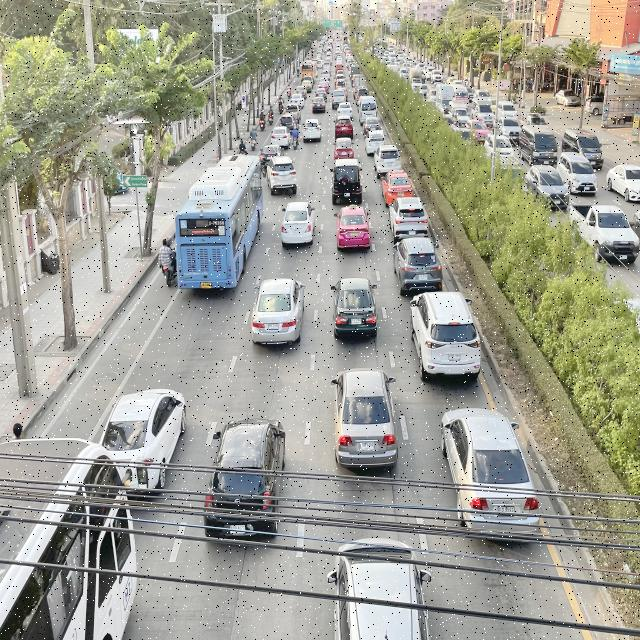bike: (159, 232, 177, 294), (249, 124, 258, 149), (260, 108, 266, 132), (278, 93, 284, 113), (268, 105, 273, 126), (286, 83, 291, 99)
bus: (176, 153, 260, 301)
car: (436, 406, 546, 550), (200, 412, 286, 553), (326, 532, 432, 640), (106, 384, 190, 494), (330, 360, 399, 485), (409, 288, 486, 383), (250, 272, 304, 350), (332, 277, 383, 345), (392, 235, 443, 295), (278, 200, 318, 254), (333, 205, 372, 254), (388, 196, 428, 240), (330, 157, 363, 206), (266, 156, 298, 196), (382, 169, 412, 208), (302, 117, 323, 142)
